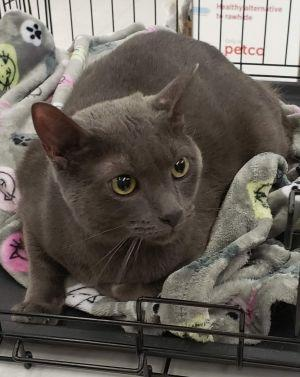rblue: (26, 54, 219, 259)
